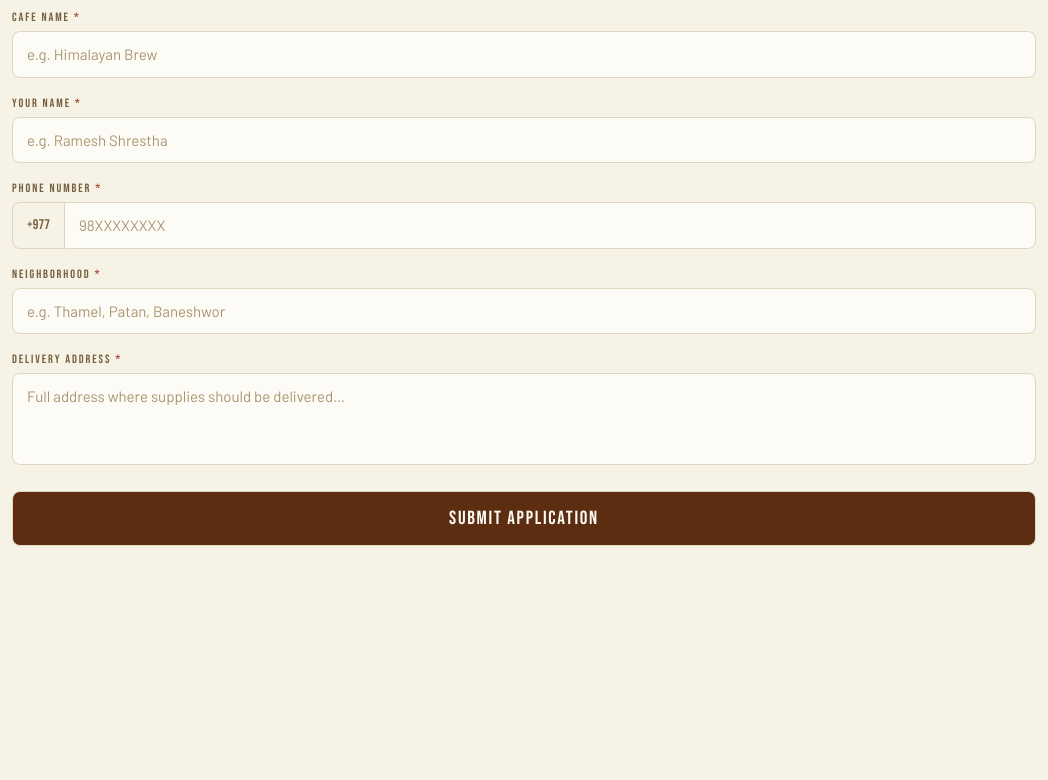
Test case: OnboardingForm › displays a server error message when the action fails
Type "Himalayan Brew" into the field labelled "Café Name *" at [524, 54], box [12,31,1036,78]
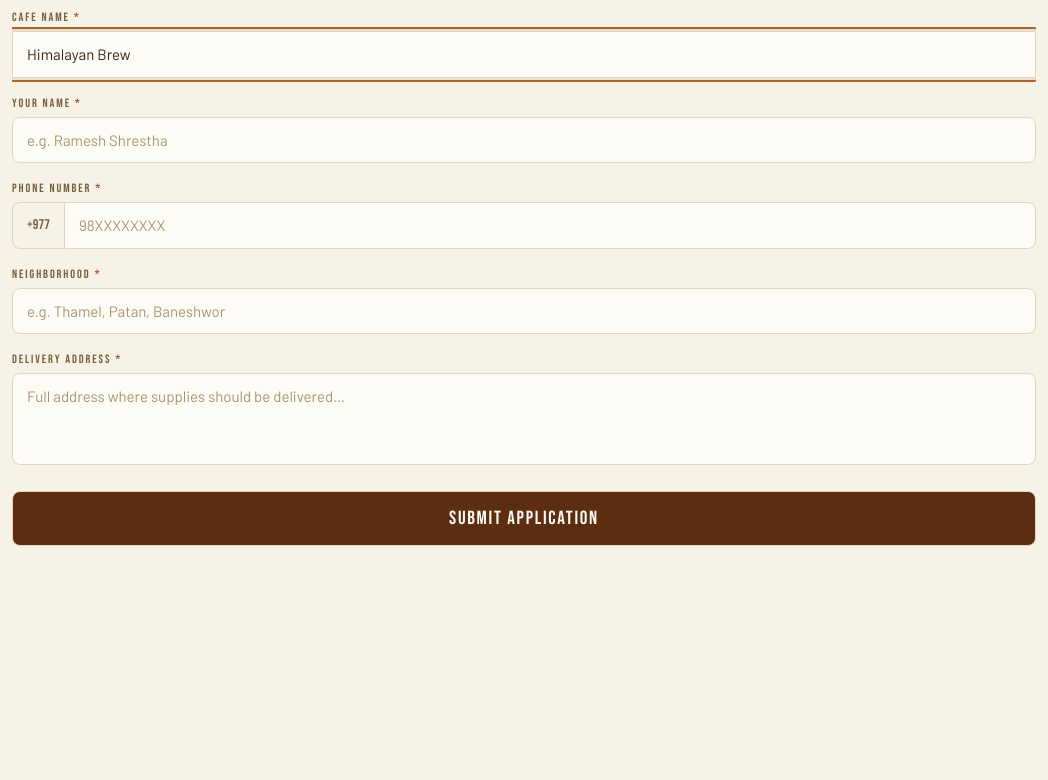
Type "Ramesh Shrestha" into the field labelled "Your Name *" at [524, 140], box [12,116,1036,163]
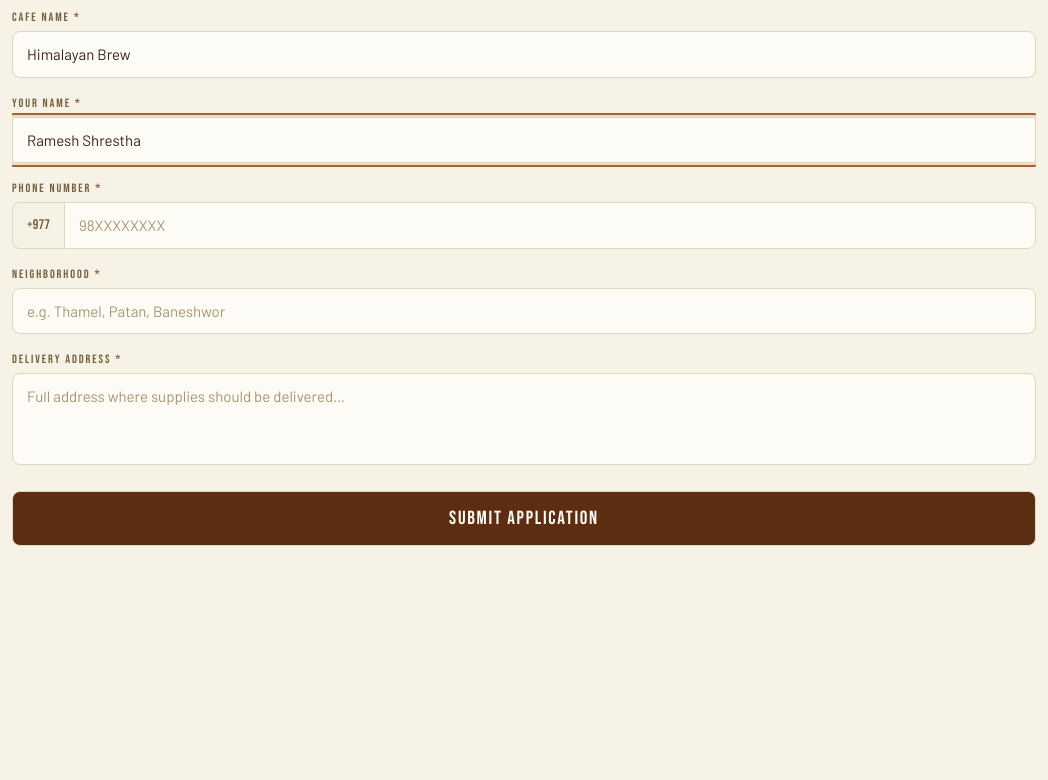
Type "9841234567" into the field labelled "Phone Number *" at [550, 225], box [64,202,1036,248]
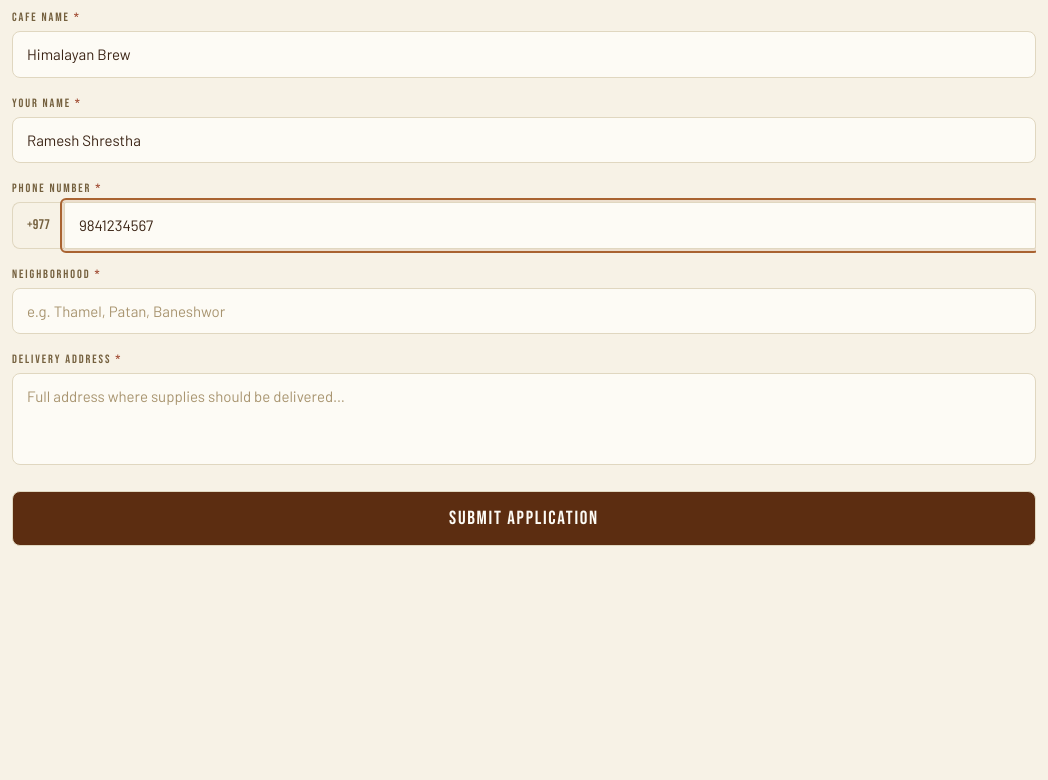
Type "Thamel" into the field labelled "Neighborhood *" at [524, 311], box [12,288,1036,334]
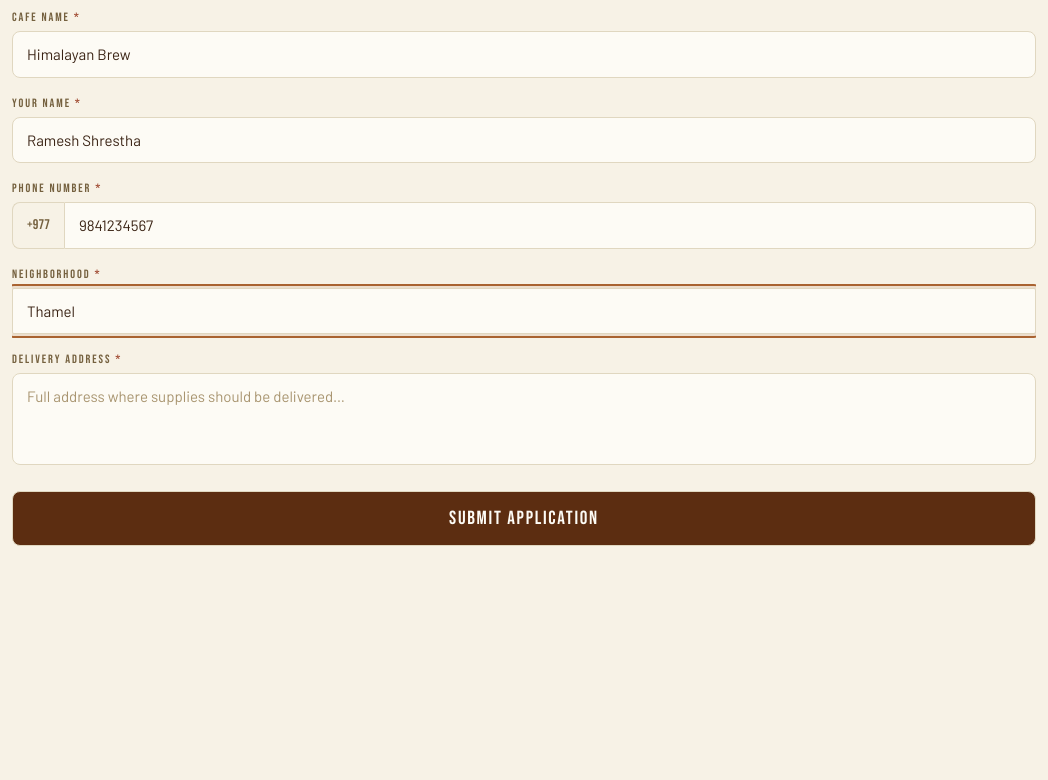
Type "Ward 26, Thamel, Kathmandu" into the text box labelled "Delivery Address *" at [524, 419], box [12,373,1036,464]
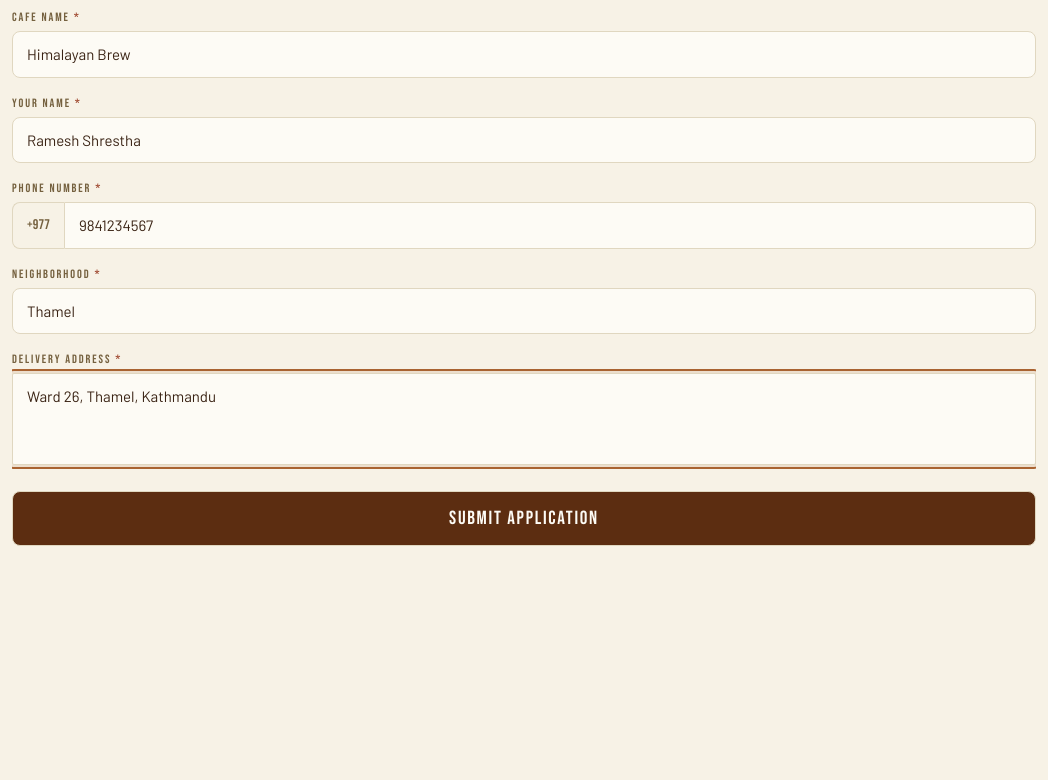
Click the button "Submit Application" at [524, 518], box [12,490,1036,546]
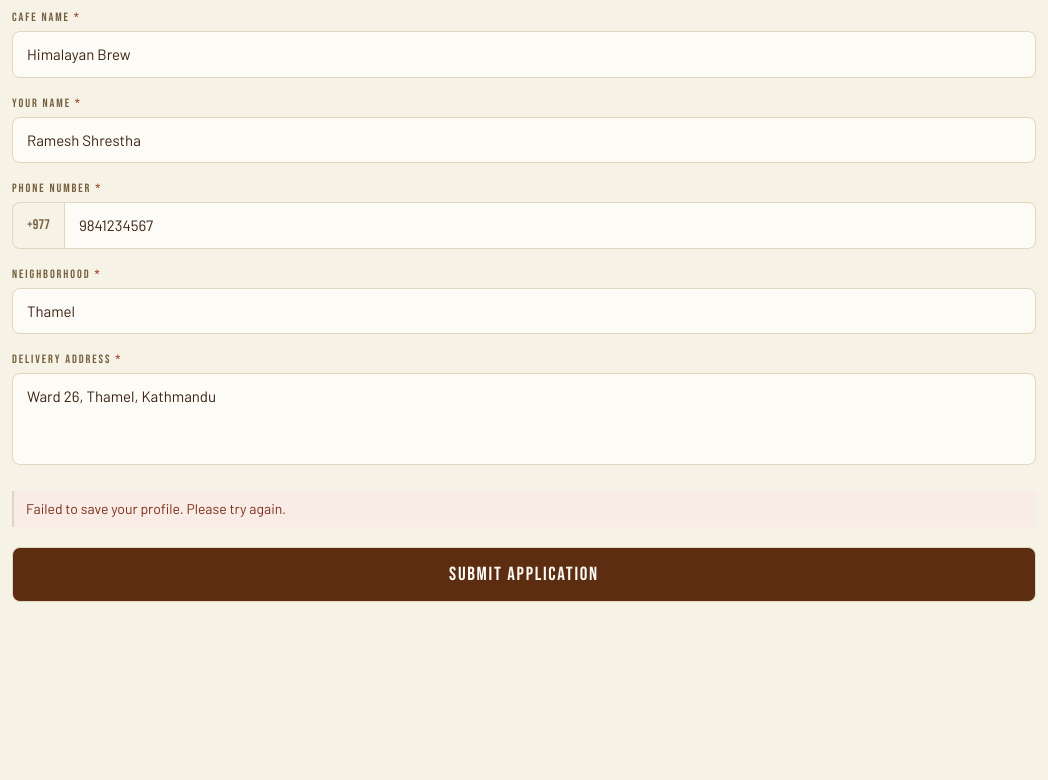
Expected: the text "Failed to save your profile. Please try again." is shown, [12,490,1036,526]
